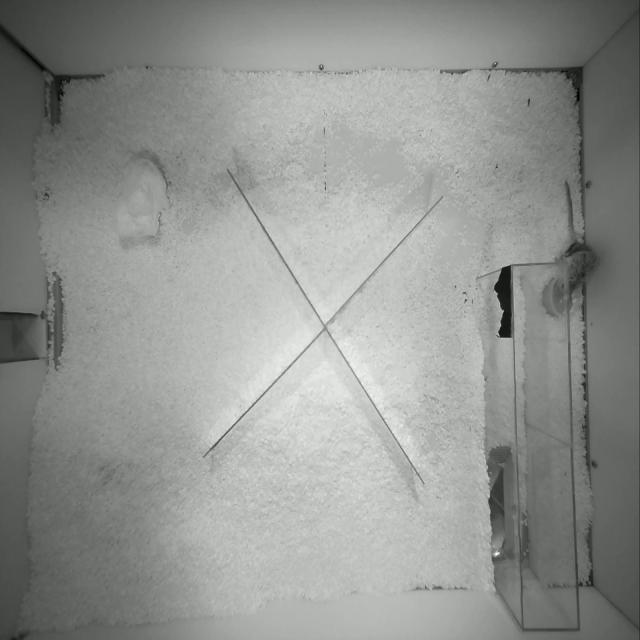adult_back: (558, 181, 598, 297)
